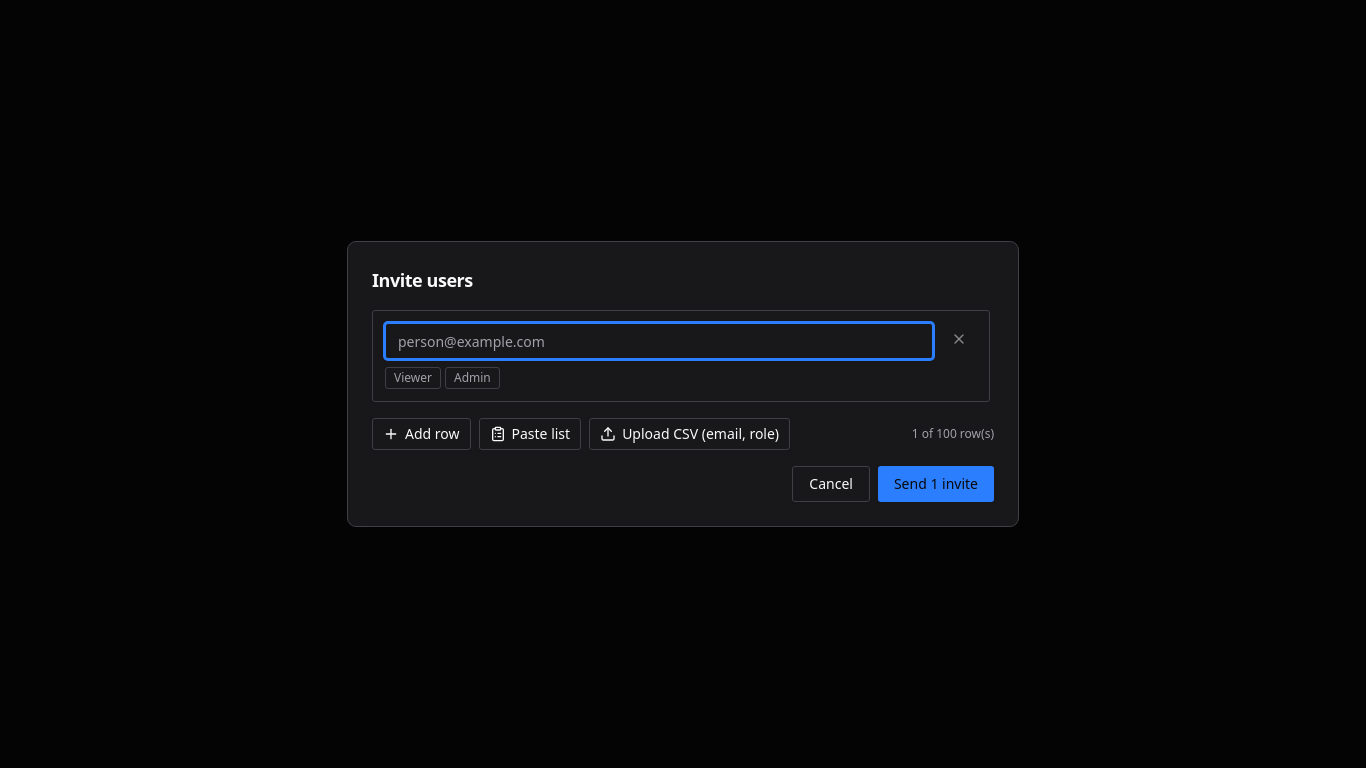
InviteDialog — client guards › surfaces an envelope-level 422 inline instead of failing silently
The image size is (1366, 768).
Step 1. Type "ada@example.com" into the field named "Invitee 1 email" → (659, 341), box [385,323,933,359]
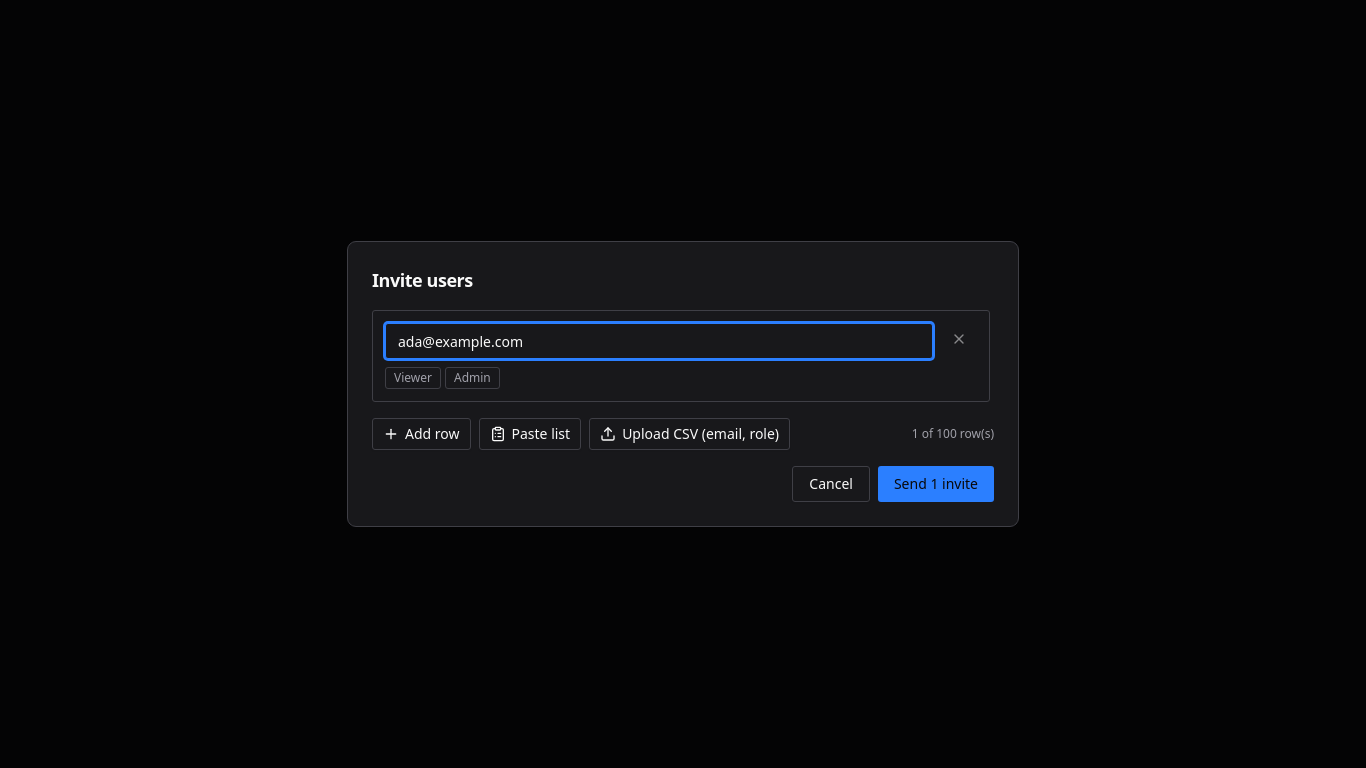
Step 2. Click the button "Viewer" → (413, 378), box [385,367,441,389]
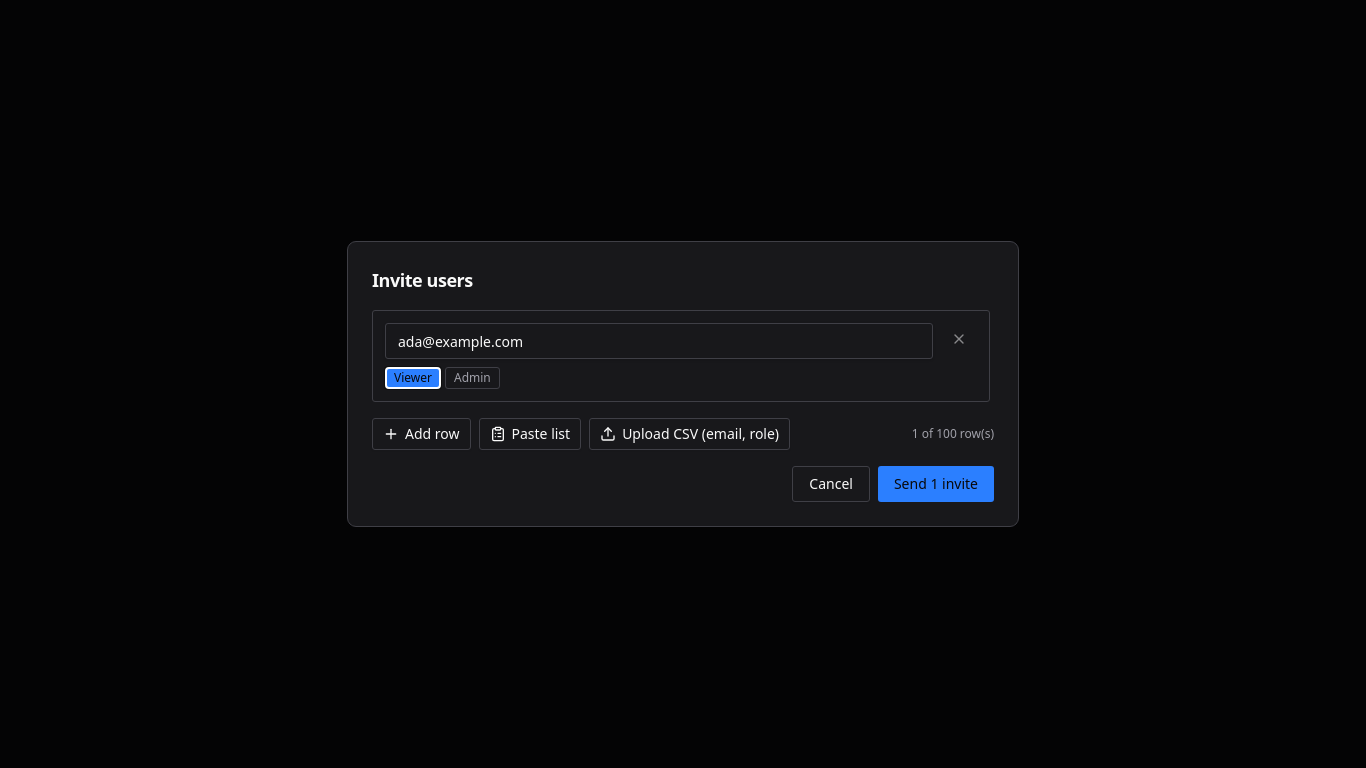
Step 3. Click the button "Send 1 invite" → (936, 484), box [878,466,994,502]
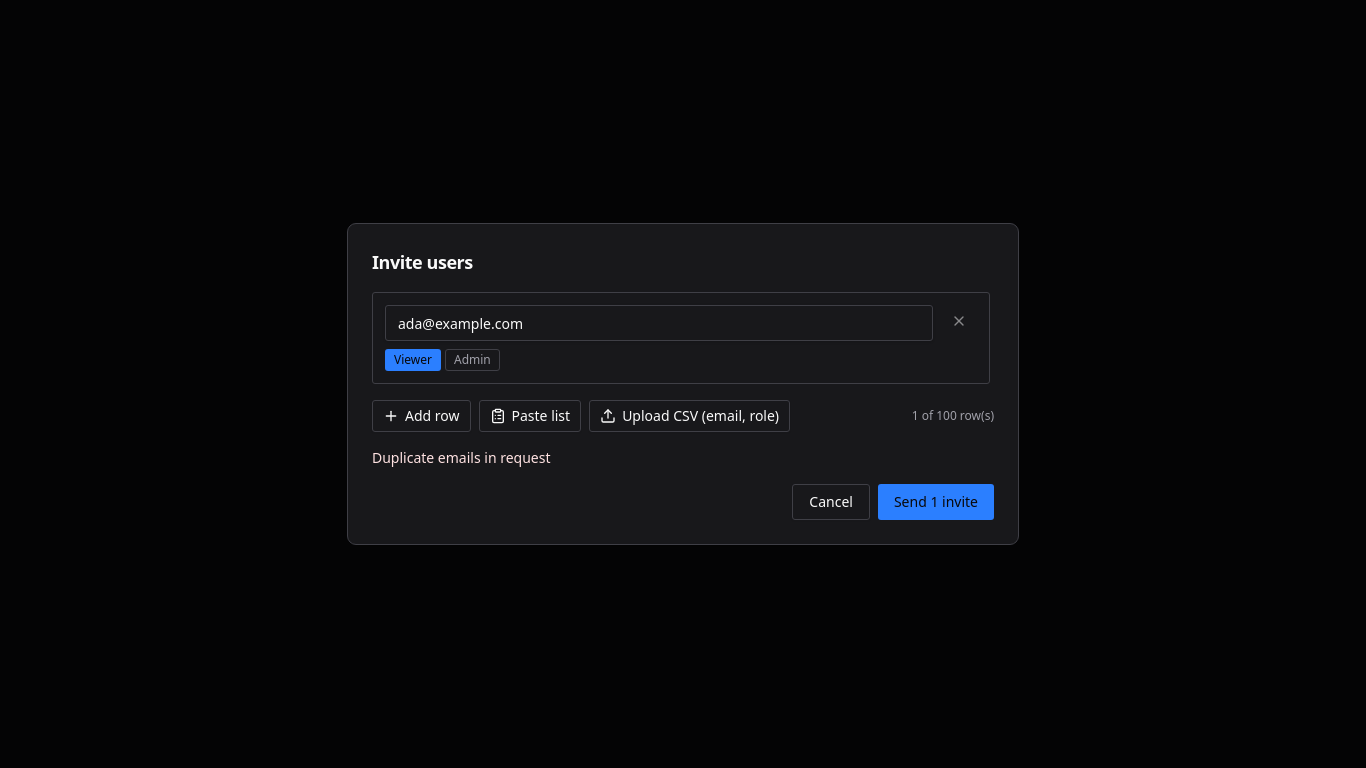
expect the text "Duplicate emails in request" is shown: met, box [372,448,550,467]
